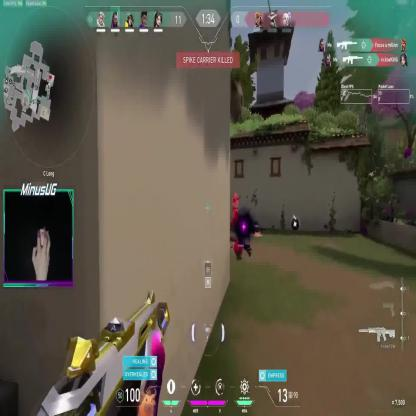enemy: (230, 192, 239, 229)
enemy_head: (233, 193, 238, 201)
